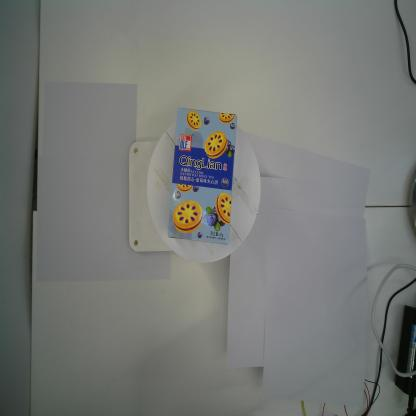Dessert: (167, 106, 238, 246)
